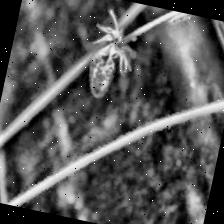Gray Mold: (80, 7, 142, 104)
